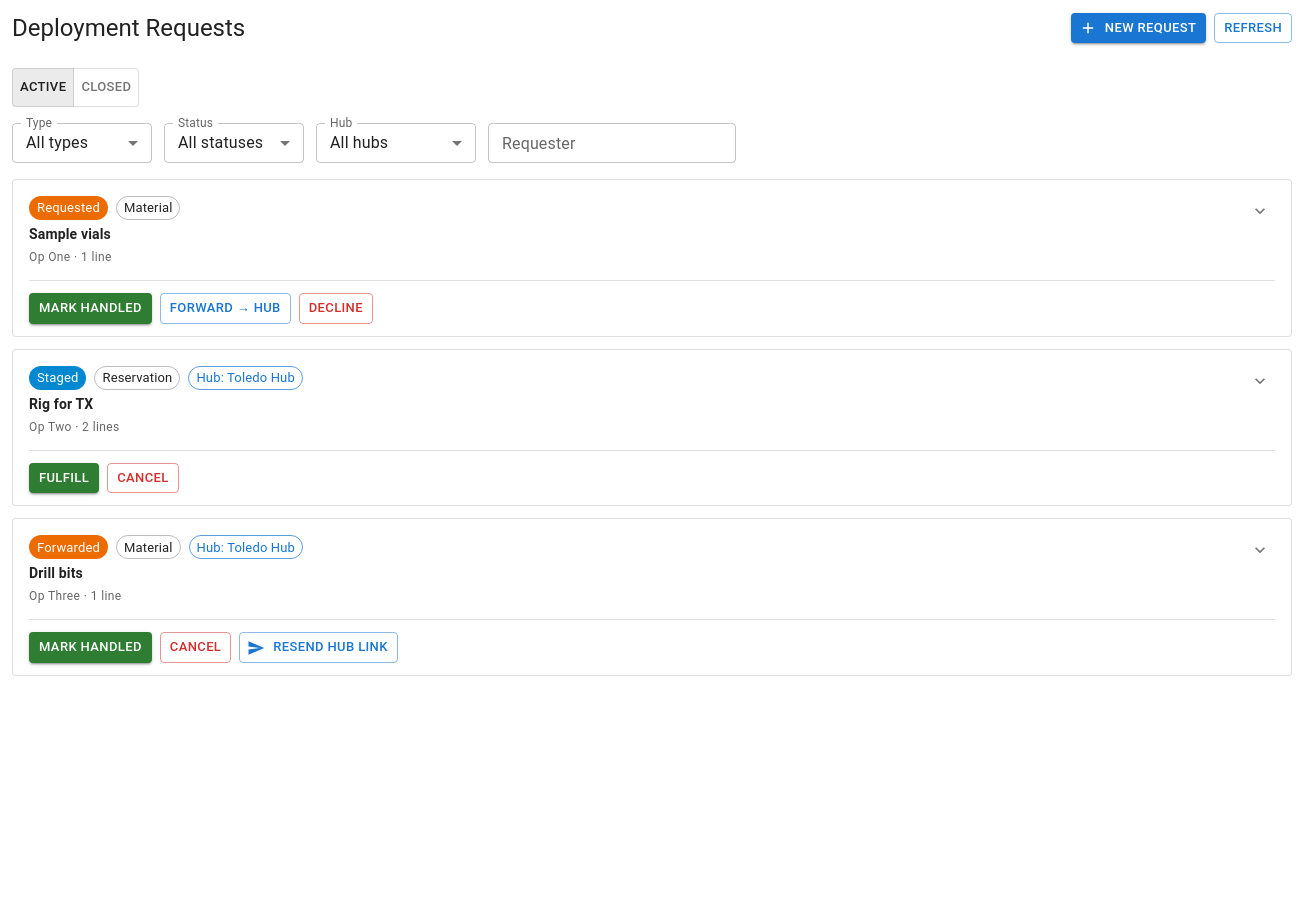
UXP-3 (3c): admin "Mark Handled" on a MATERIAL request › sends the unchanged `fulfill` action and toasts "Marked handled — Op One notified"
The image size is (1304, 912).
Expected: the text "Sample vials" is shown, [29,226,111,242]
What coordinates should you click on to do the following:
click the button "Mark Handled" below "Op One"
I would click on:
 (90, 308)
Its box is [29,293,152,324].
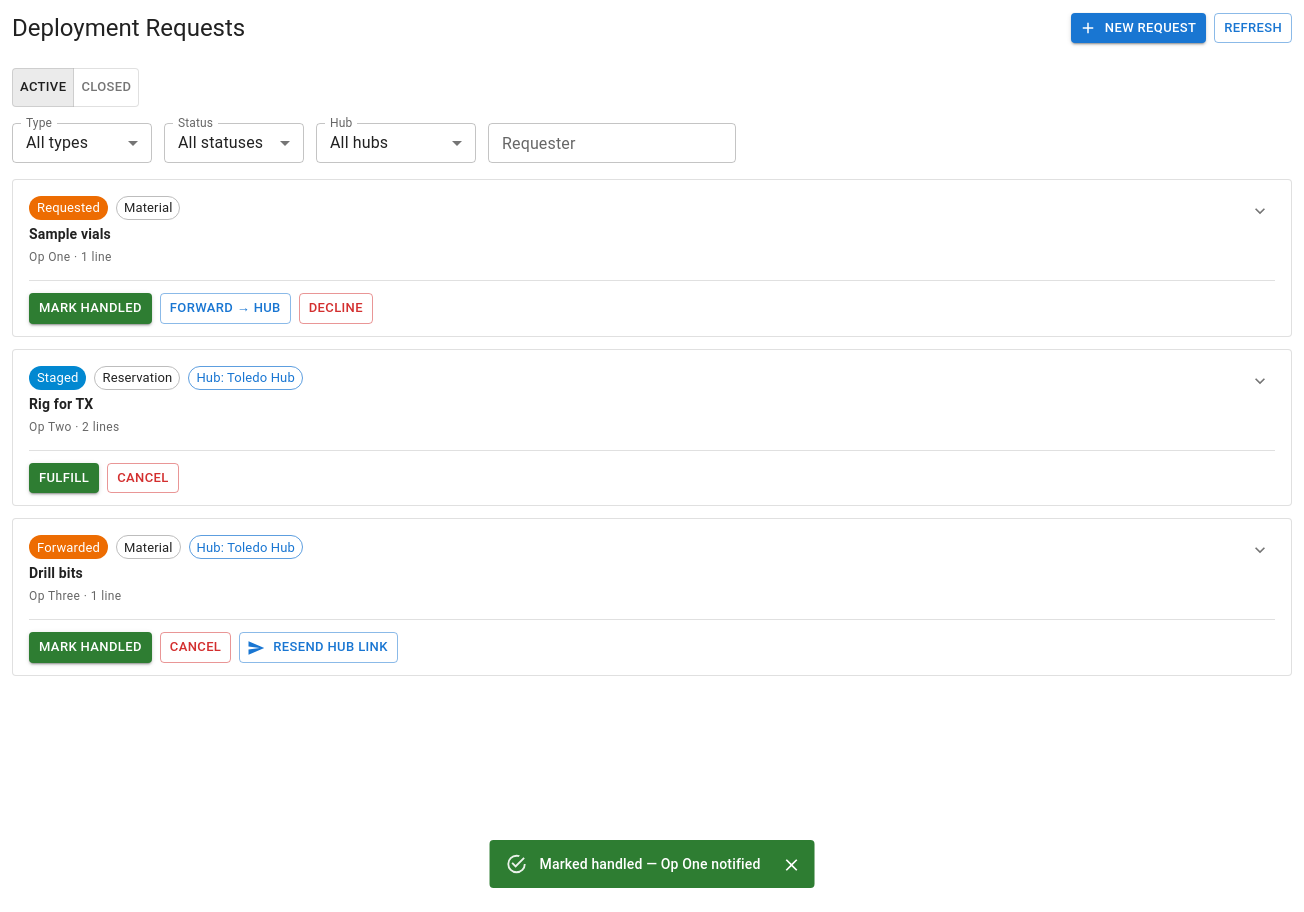
Now the text "Marked handled — Op One notified" is shown, box [540,856,760,872]
